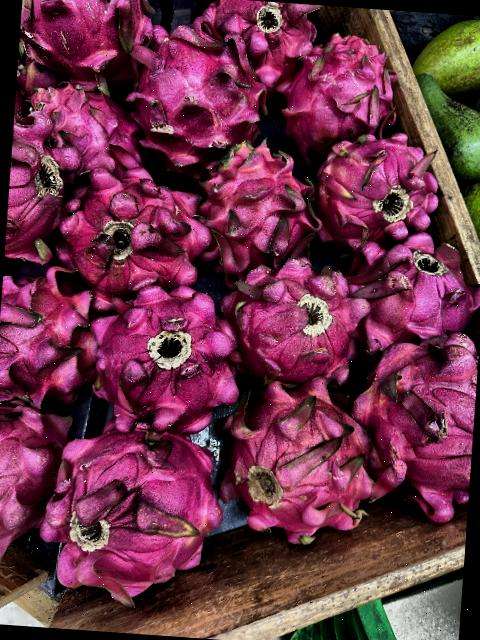buah-naga-matang: (42, 422, 227, 602), (212, 380, 376, 550), (337, 317, 480, 511), (76, 276, 241, 432), (218, 250, 366, 398), (116, 19, 264, 165), (54, 171, 218, 296), (304, 134, 437, 243), (347, 231, 480, 339), (0, 263, 95, 410), (199, 150, 309, 267), (3, 107, 78, 275), (287, 36, 395, 151), (17, 0, 152, 83), (185, 0, 318, 80)
